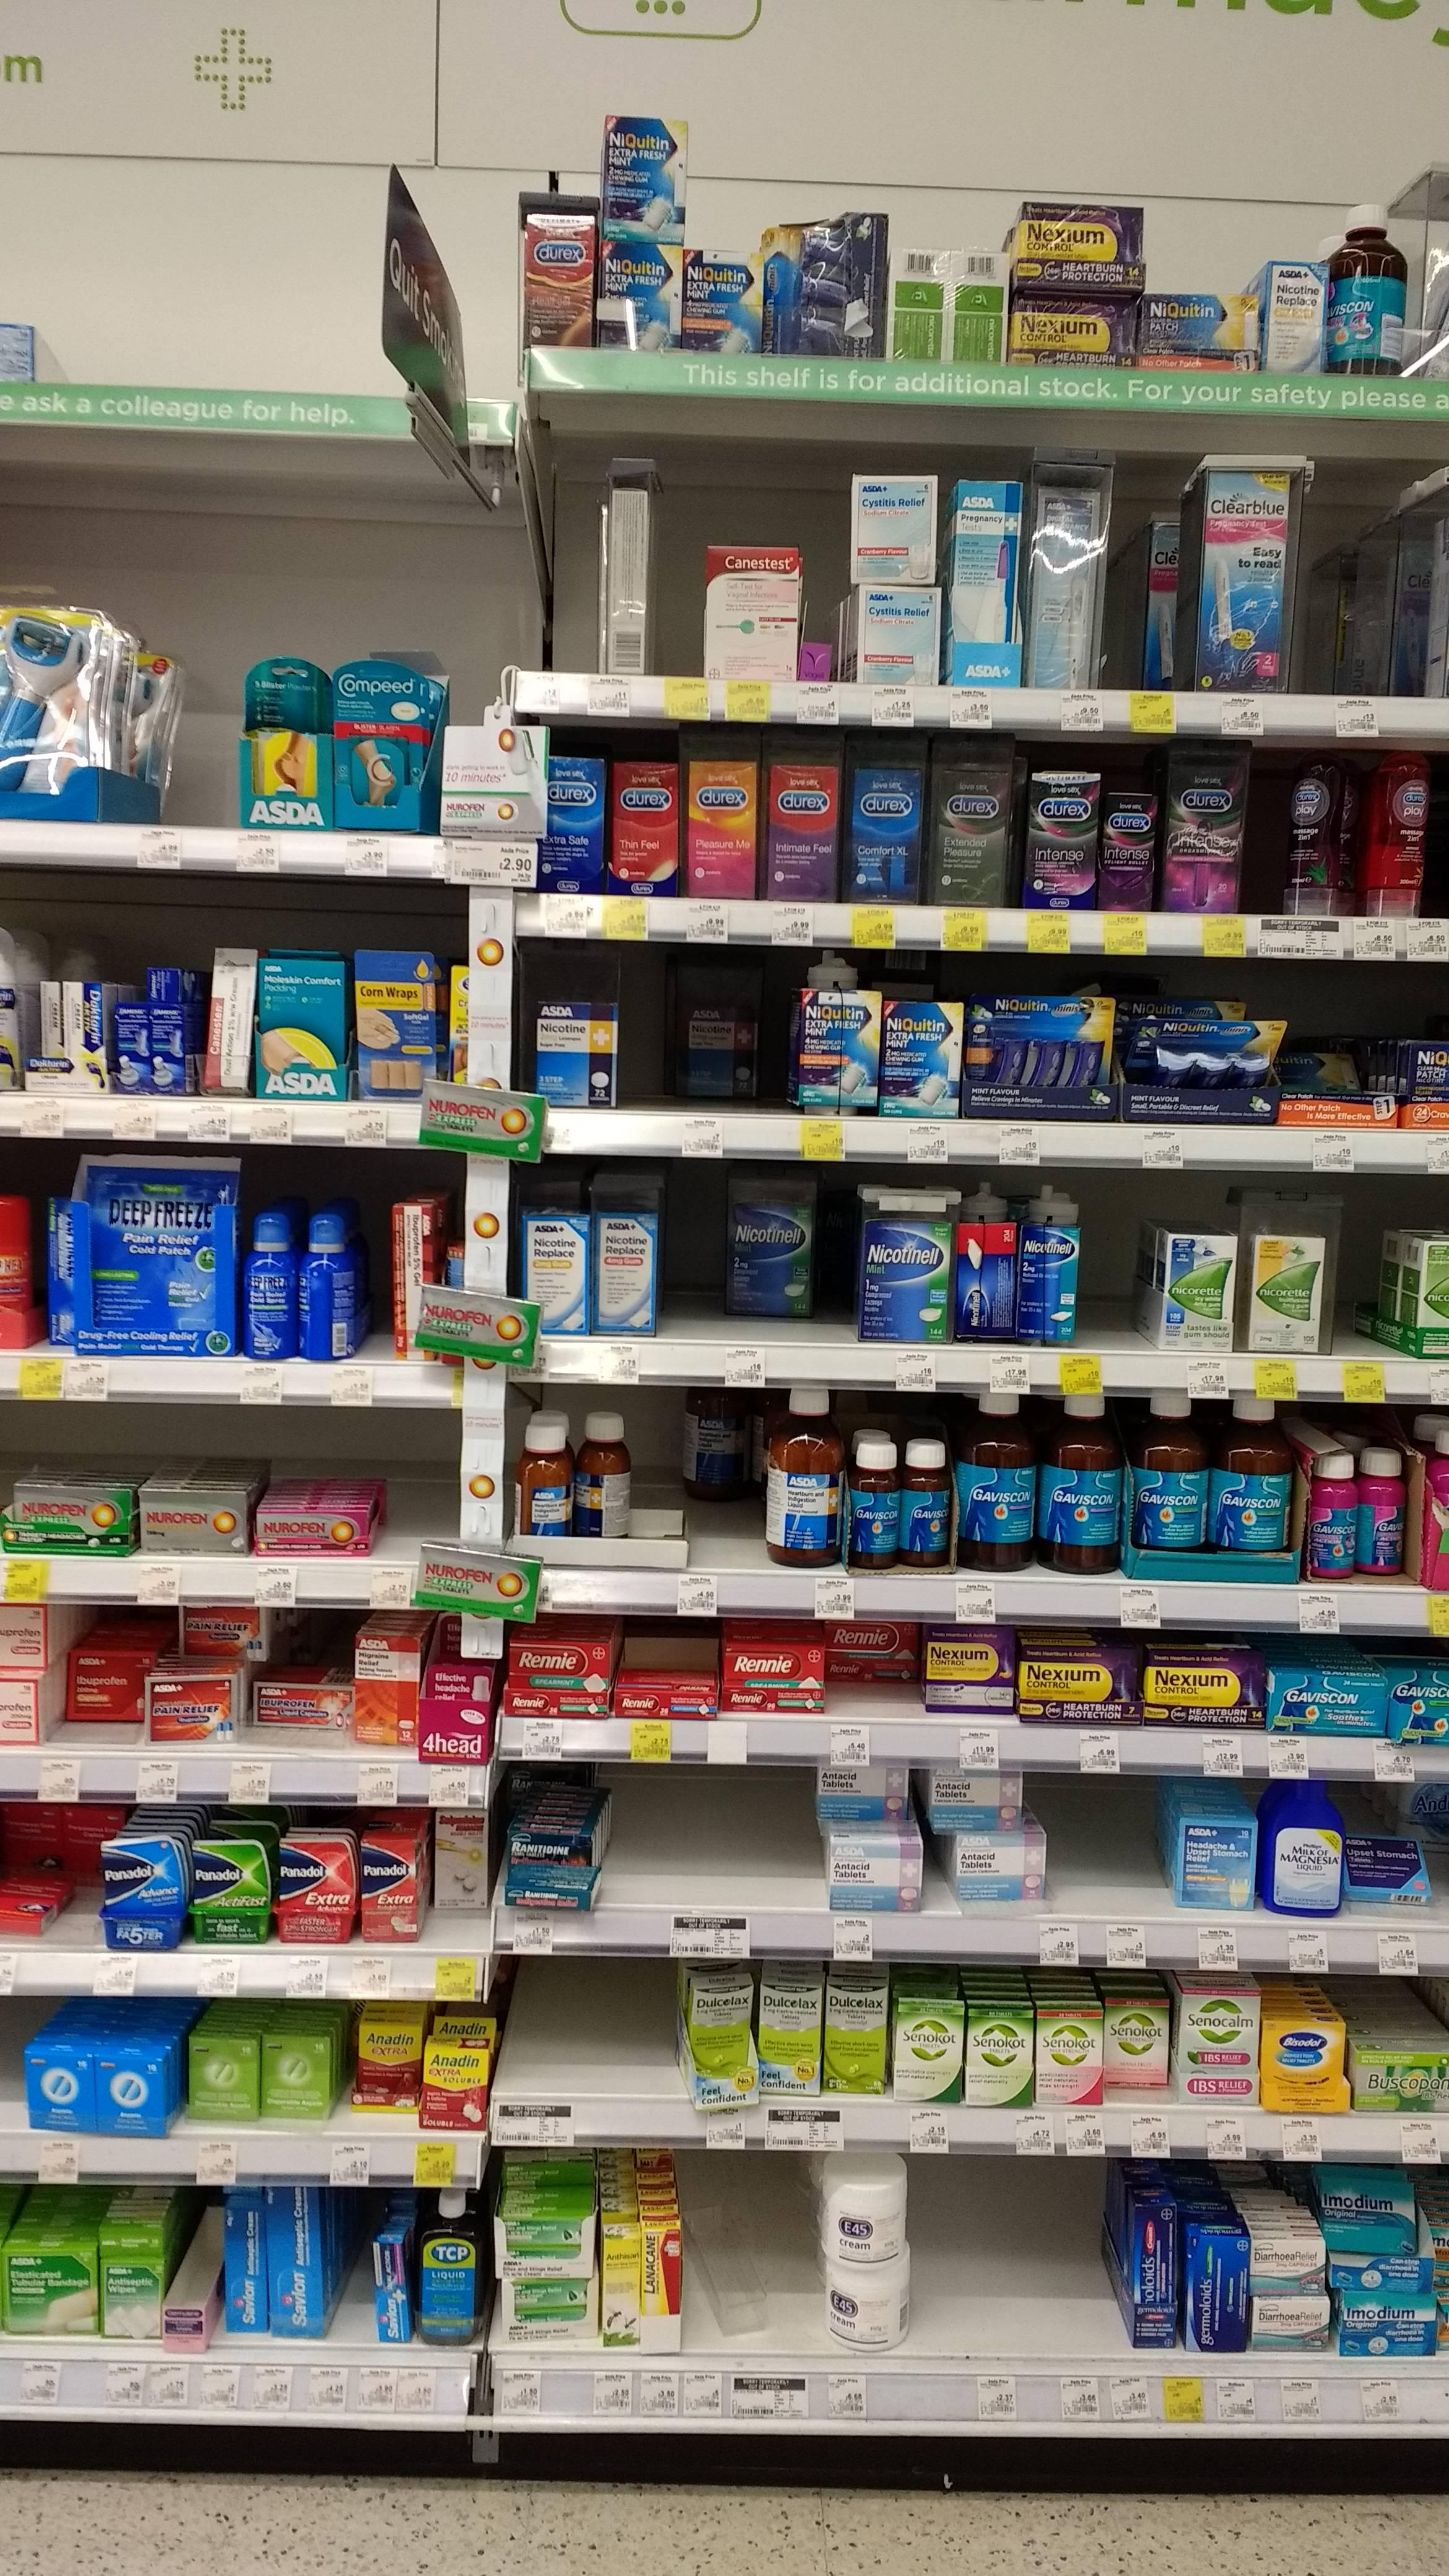empty: (920, 2164, 1113, 2335), (619, 1775, 810, 1890), (510, 1953, 663, 2082), (1058, 1787, 1157, 1895), (180, 632, 237, 819), (1297, 478, 1339, 694), (547, 479, 593, 672), (669, 1175, 724, 1330), (1085, 1191, 1139, 1334), (665, 471, 702, 679), (1118, 464, 1150, 697), (391, 1426, 449, 1545), (329, 2187, 372, 2342)
misalignment: (683, 2190, 768, 2342)
